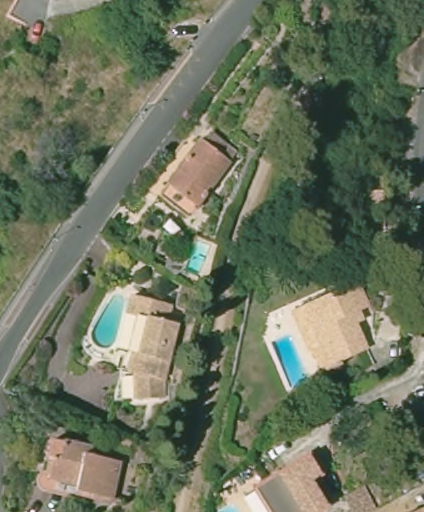pool: (269, 331, 311, 393), (87, 290, 122, 349), (181, 230, 209, 280)
